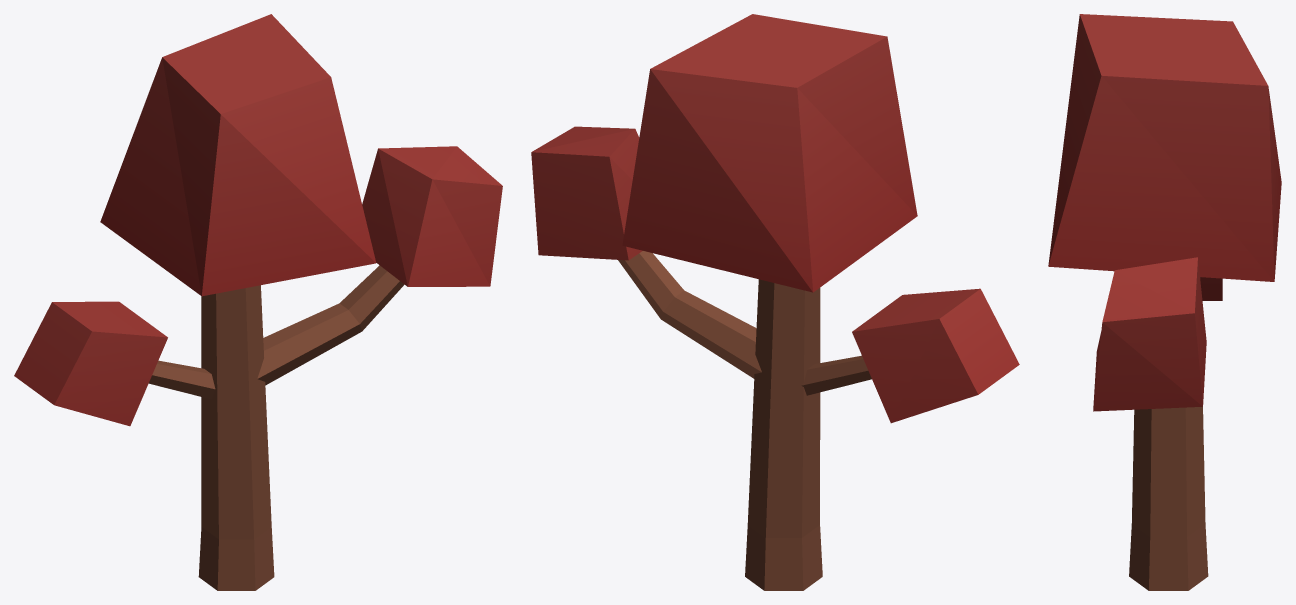
Rendered from Tree_44_gradient_red_vc.fbx.
3 views of the same model, side by side, from view 1: azimuth 30°, elevation 25°; view 2: azimuth 150°, elevation 25°; view 3: azimuth 270°, elevation 25° (orthographic). The views are drawn at different scales.
Visible parts, largest first — view 1: Tree_44_gradient_red_vc; view 2: Tree_44_gradient_red_vc; view 3: Tree_44_gradient_red_vc.
Part boxes in pixels (<box>): Tree_44_gradient_red_vc: <box>14,14,502,590</box>; Tree_44_gradient_red_vc: <box>531,14,1019,590</box>; Tree_44_gradient_red_vc: <box>1048,14,1281,590</box>.
Size of the model in its own units: 162 by 179 by 70.99.
